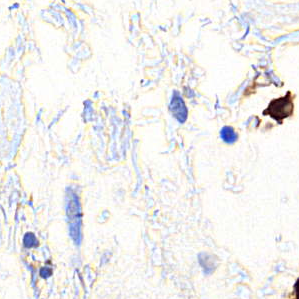Lymphocyte: (263, 91, 293, 124)
